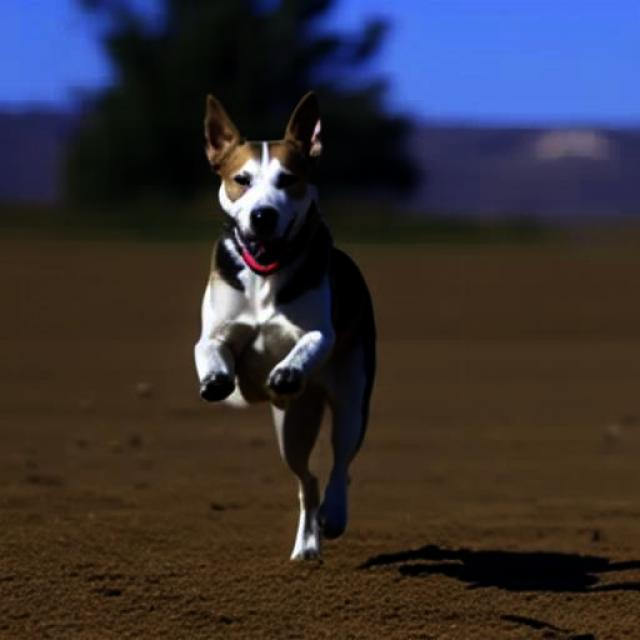Dog: (195, 91, 376, 564)
